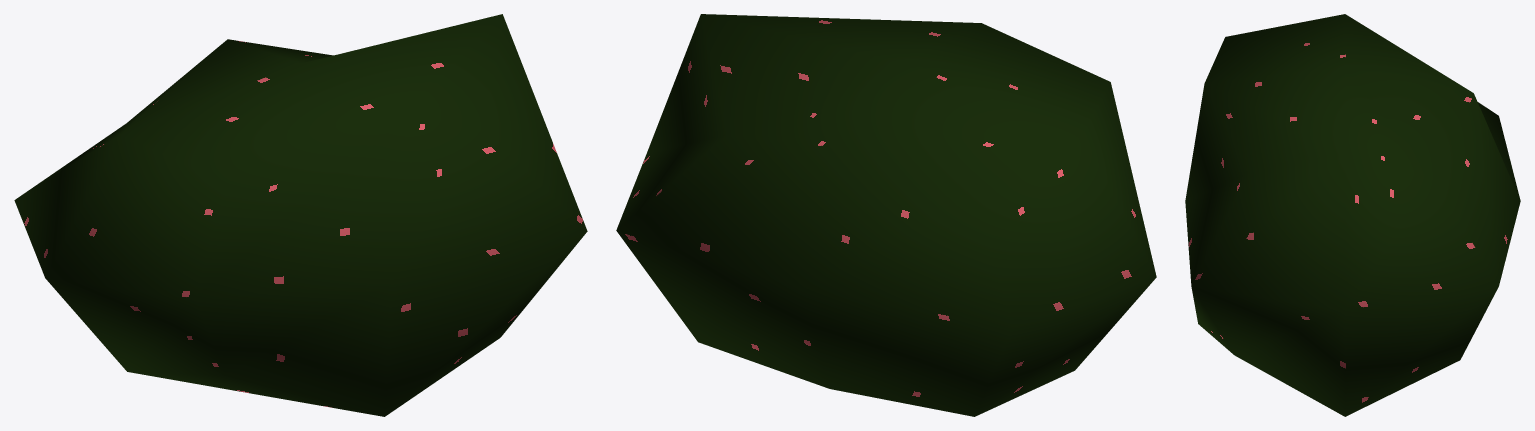
File: Bush.fbx
3 views of the same model, side by side, from view 1: azimuth 30°, elevation 25°; view 2: azimuth 150°, elevation 25°; view 3: azimuth 270°, elevation 25° (orthographic). The views are drawn at different scales.
Visible parts, largest first — view 1: Bush; view 2: Bush; view 3: Bush.
Part boxes in pixels (left/top/right/bottom): Bush: left=14, top=14, right=587, bottom=416; Bush: left=616, top=14, right=1156, bottom=416; Bush: left=1185, top=14, right=1520, bottom=416.
Bounding box in the file's own units: 907 × 528 × 587.
Materials: 1 (1 with a texture image).
